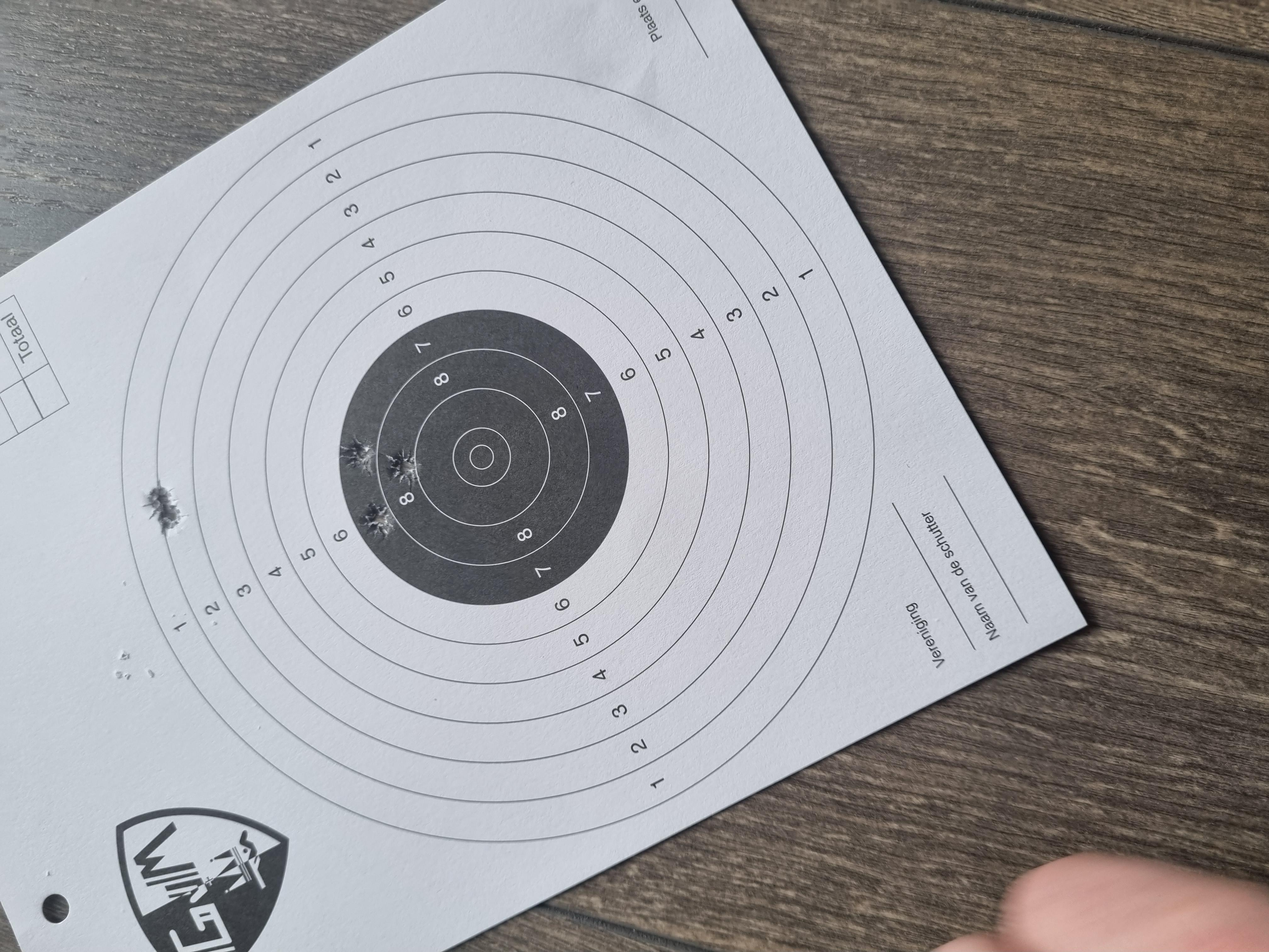hole: (611, 289, 670, 316), (635, 255, 688, 281), (550, 270, 598, 295), (578, 108, 630, 130), (552, 118, 596, 137)
